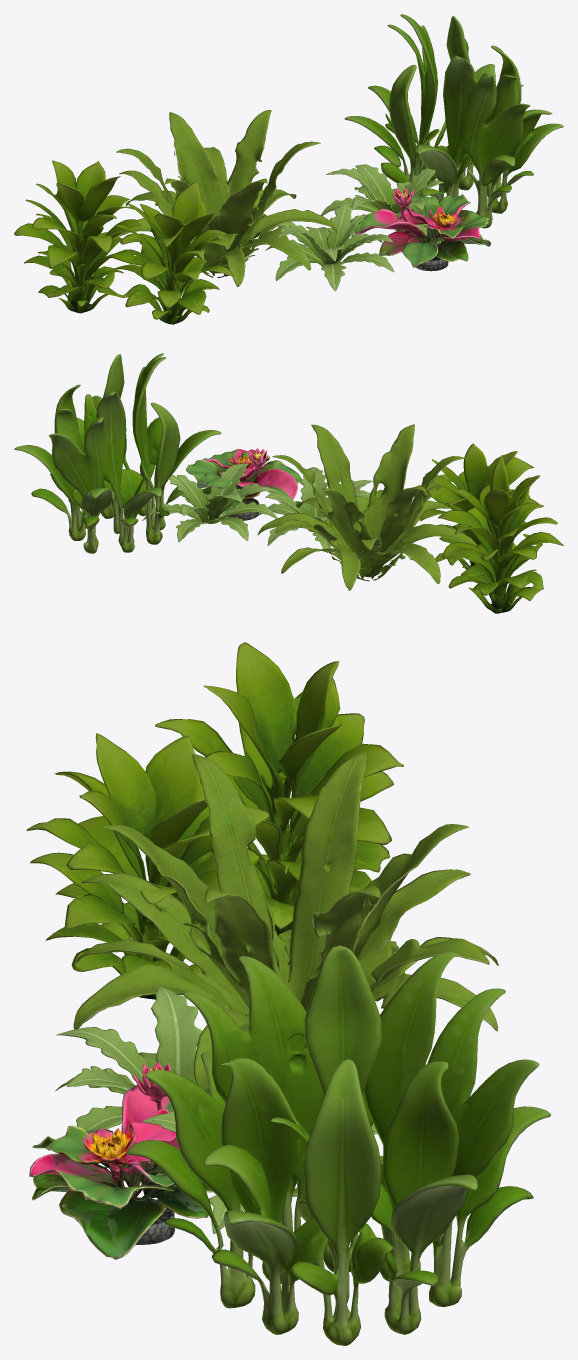
File: red-bellied-piranha.glb
3 renders of one model, top to bottom at view 1: azimuth 30°, elevation 25°; view 2: azimuth 150°, elevation 25°; view 3: azimuth 270°, elevation 25°, orthographic. The views are drawn at different scales.
Parts seen in each view (by area): view 1: Vallisneria, Universal, Java Vern Narrow, Red Tiger Lotus, Staurogyne Repens, Staurogyne Repens2; view 2: Vallisneria, Java Vern Narrow, Universal, Staurogyne Repens2, Red Tiger Lotus, Staurogyne Repens; view 3: Vallisneria, Universal, Java Vern Narrow, Red Tiger Lotus, Staurogyne Repens, Staurogyne Repens2.
Part boxes in pixels (x1,y1,x2,y2): Vallisneria: (344,14,563,228); Universal: (14,160,233,324); Java Vern Narrow: (116,110,337,286); Red Tiger Lotus: (354,187,490,271); Staurogyne Repens: (265,203,394,291); Staurogyne Repens2: (320,164,443,239); Vallisneria: (14,353,221,553); Java Vern Narrow: (257,424,476,590); Universal: (419,443,563,613); Staurogyne Repens2: (142,464,277,541); Red Tiger Lotus: (185,448,302,520); Staurogyne Repens: (258,467,373,552); Vallisneria: (126,945,550,1345); Universal: (26,642,403,999); Java Vern Narrow: (73,752,498,1090); Red Tiger Lotus: (29,1062,213,1259); Staurogyne Repens: (55,987,209,1130); Staurogyne Repens2: (142,1110,377,1233).
Bounding box in the file's own units: 0.00146 × 0.000509 × 0.000672.
5 materials, 5 textured.
